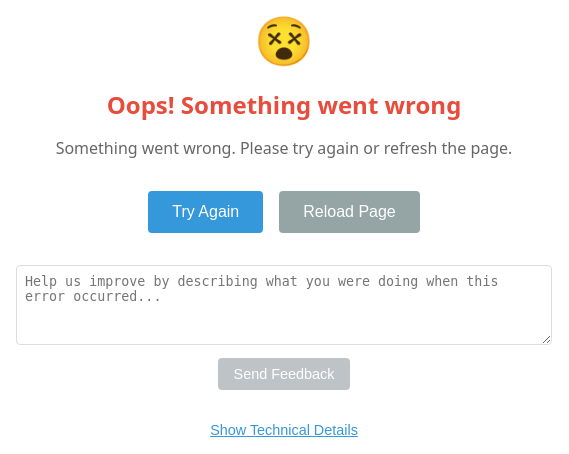
Test: Error Handling System › ErrorBoundary › should increment retry counter on retry button click
# Click retry
Click the button "Try Again".
click(206, 212)  # box top-left (148, 191), bottom-right (263, 233)
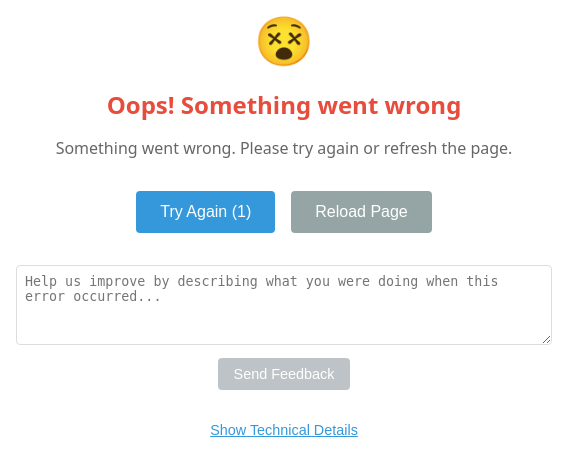
Check: the button "Try Again (1)" is shown, box top-left (136, 191), bottom-right (275, 233)
